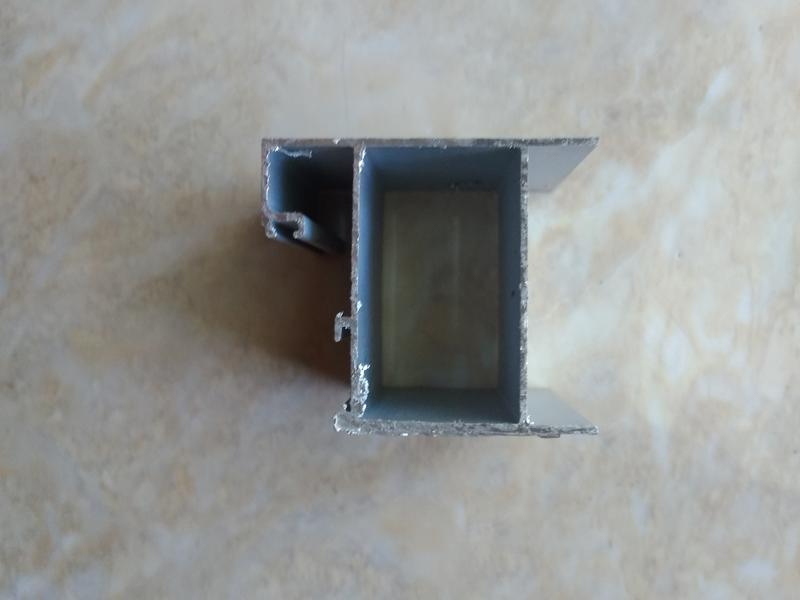Aluminium_2: (242, 104, 648, 461)
